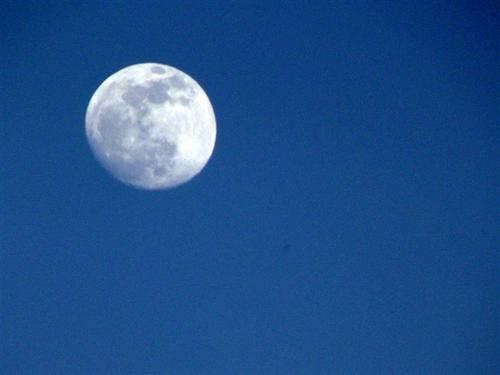moon: (85, 62, 217, 190)
